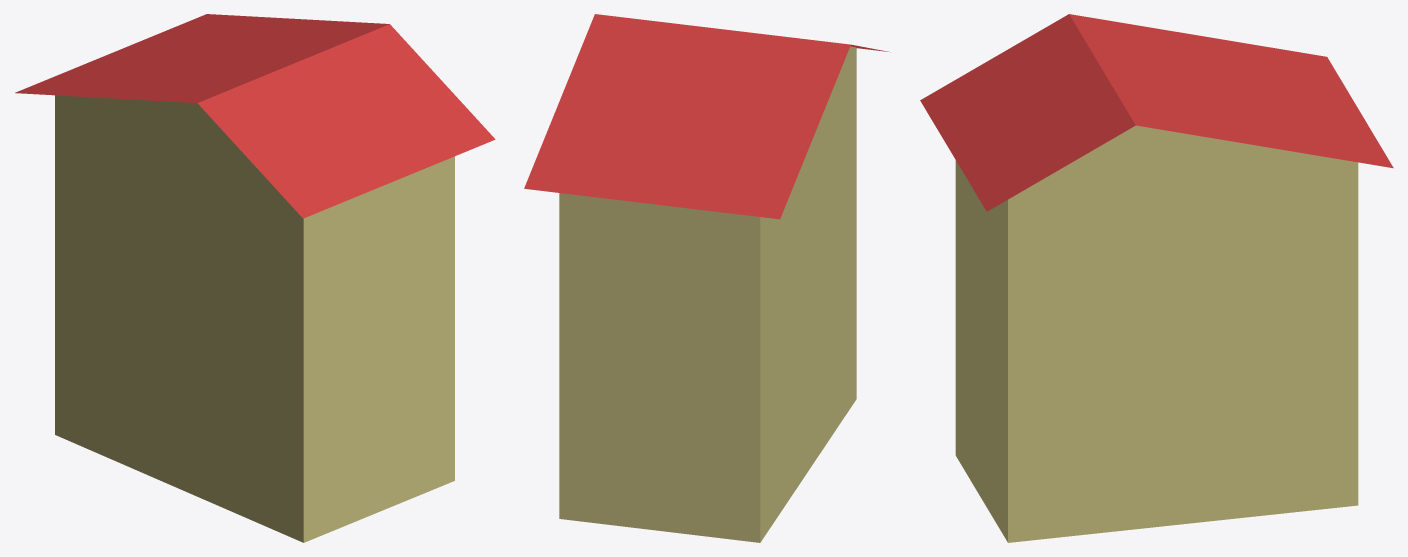
The picture shows the model from 3 angles, left to right: view 1: azimuth 30°, elevation 25°; view 2: azimuth 150°, elevation 25°; view 3: azimuth 270°, elevation 25°; orthographic projection. The views are drawn at different scales.
Bounding box in the file's own units: 6.26 × 8.09 × 7.85.
